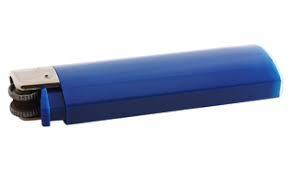lighter: (5, 44, 283, 129)
